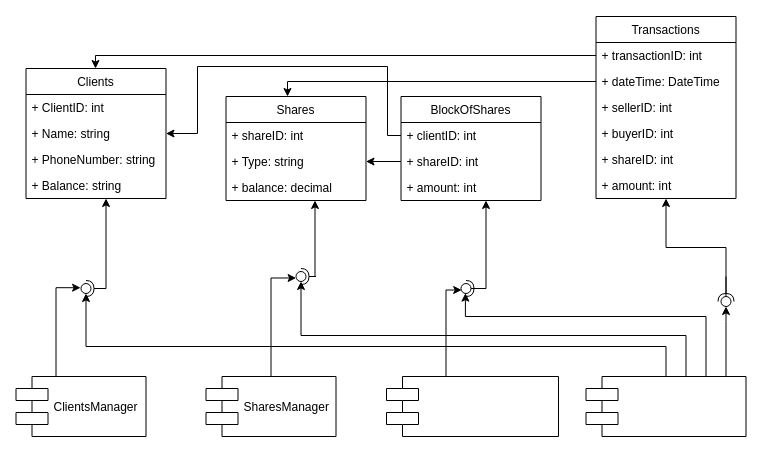
Some shapes in this 762 by 453 pixel diagram are drawn without their labels. The centre of each missing label's shape, as x and y in pixels:
"BlockOfSharesManager" goes at pixel 472 406.
"TransactionManager" goes at pixel 665 406.
